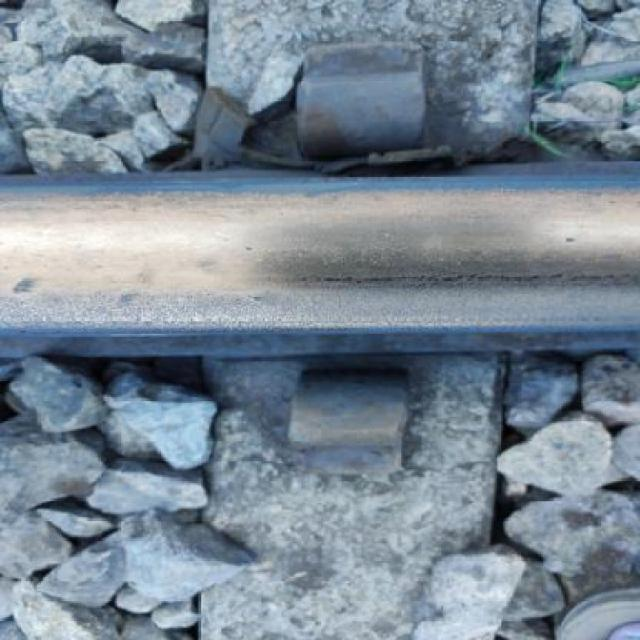defective: (259, 254, 640, 328)
